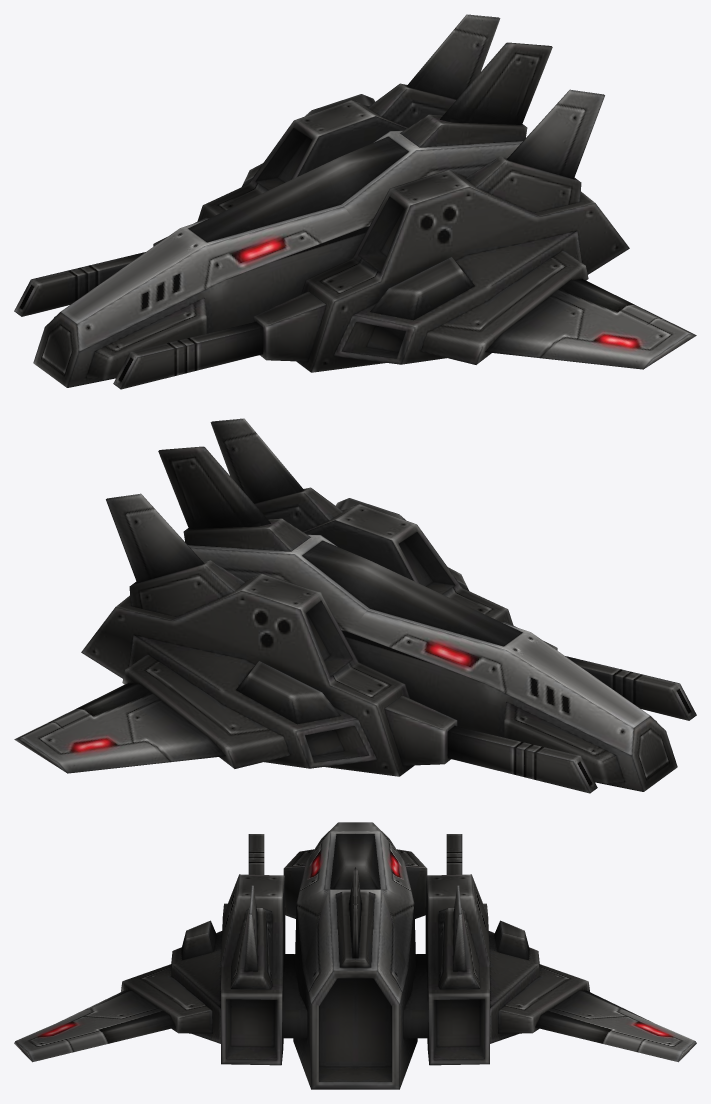
The picture shows the model from 3 angles, top to bottom: view 1: azimuth 30°, elevation 25°; view 2: azimuth 150°, elevation 25°; view 3: azimuth 270°, elevation 25°; orthographic projection.
Parts seen in each view (by area): view 1: small_space_ship_7; view 2: small_space_ship_7; view 3: small_space_ship_7.
Part boxes in pixels (box(x1,y1,x2,y2)): small_space_ship_7: box(14, 14, 696, 389); small_space_ship_7: box(14, 418, 696, 793); small_space_ship_7: box(14, 822, 696, 1089).
Size of the model in its own units: 47.91 by 20.2 by 53.55.
1 material, 1 textured.
